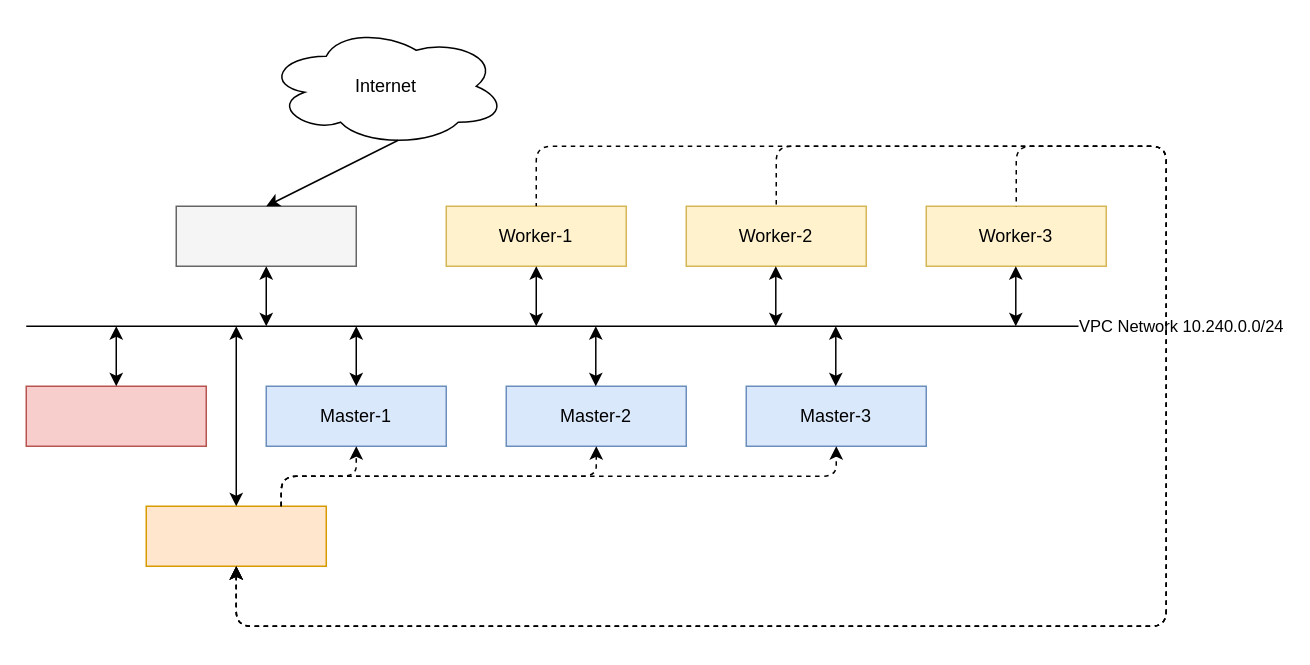
This 1310x665 diagram has some shape labels left out. Here are the shapes that lost their labels. From the top down, the centre of each, then its label:
At point 265,235: "Bastion".
At point 115,415: "etcd-1".
At point 235,535: "Internal K8S API LB".
